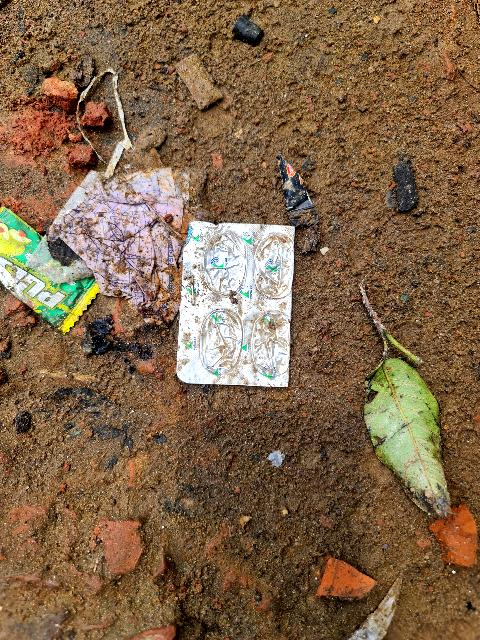medicine: (175, 225, 290, 391)
